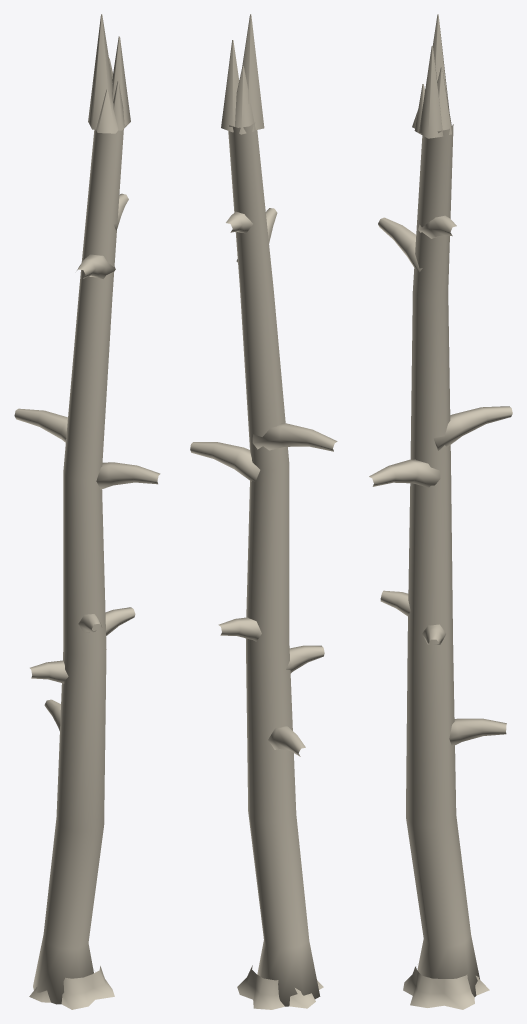
The model's file is alpine-and-arctic-biomes-alpine-snag-f3405ca8__20946.glb.
3 views of the same model, side by side, from view 1: azimuth 30°, elevation 25°; view 2: azimuth 210°, elevation 25°; view 3: azimuth 270°, elevation 25° (orthographic).
Parts seen in each view (by area): view 1: alpine-snag; view 2: alpine-snag; view 3: alpine-snag.
Part boxes in pixels (x1,y1,x2,y2): alpine-snag: (14,14,160,1009); alpine-snag: (190,14,337,1009); alpine-snag: (369,14,512,1009).
Size of the model in its own units: 0.7406 by 6.71 by 0.893.
